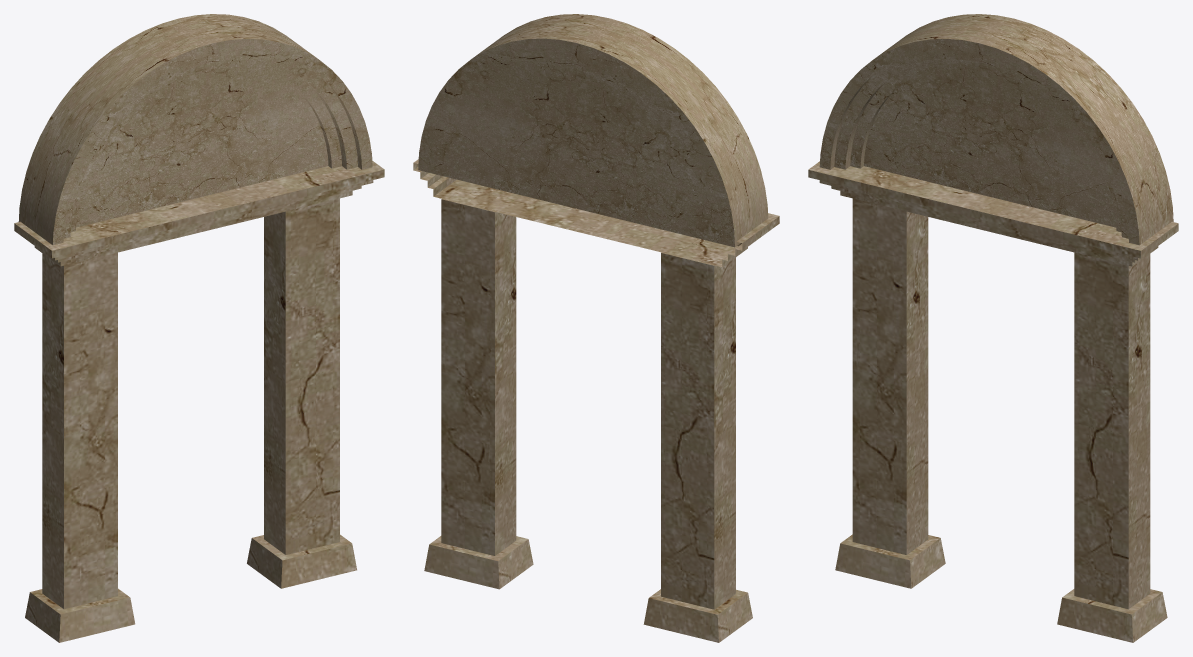
The model's file is pasted__door19.fbx.
The picture shows the model from 3 angles, left to right: view 1: azimuth 30°, elevation 25°; view 2: azimuth 150°, elevation 25°; view 3: azimuth 330°, elevation 25°; orthographic projection.
Parts seen in each view (by area): view 1: pasted__Node_1339, pasted__stone_column_505, pasted__stone_column_504, pasted__stone_column_506; view 2: pasted__Node_1339, pasted__stone_column_504, pasted__stone_column_505, pasted__stone_column_506; view 3: pasted__Node_1339, pasted__stone_column_504, pasted__stone_column_505, pasted__stone_column_506.
Part boxes in pixels (left/top/right/bottom): pasted__Node_1339: left=18, top=14, right=372, bottom=245; pasted__stone_column_505: left=25, top=252, right=135, bottom=642; pasted__stone_column_504: left=247, top=198, right=356, bottom=588; pasted__stone_column_506: left=14, top=161, right=384, bottom=266; pasted__Node_1339: left=418, top=14, right=768, bottom=247; pasted__stone_column_504: left=424, top=199, right=533, bottom=589; pasted__stone_column_505: left=643, top=252, right=752, bottom=642; pasted__stone_column_506: left=413, top=159, right=779, bottom=267; pasted__Node_1339: left=819, top=14, right=1173, bottom=245; pasted__stone_column_504: left=1057, top=252, right=1167, bottom=642; pasted__stone_column_505: left=835, top=198, right=945, bottom=588; pasted__stone_column_506: left=808, top=161, right=1178, bottom=266.
Bounding box in the file's own units: 63.16 × 14.54 × 103.
